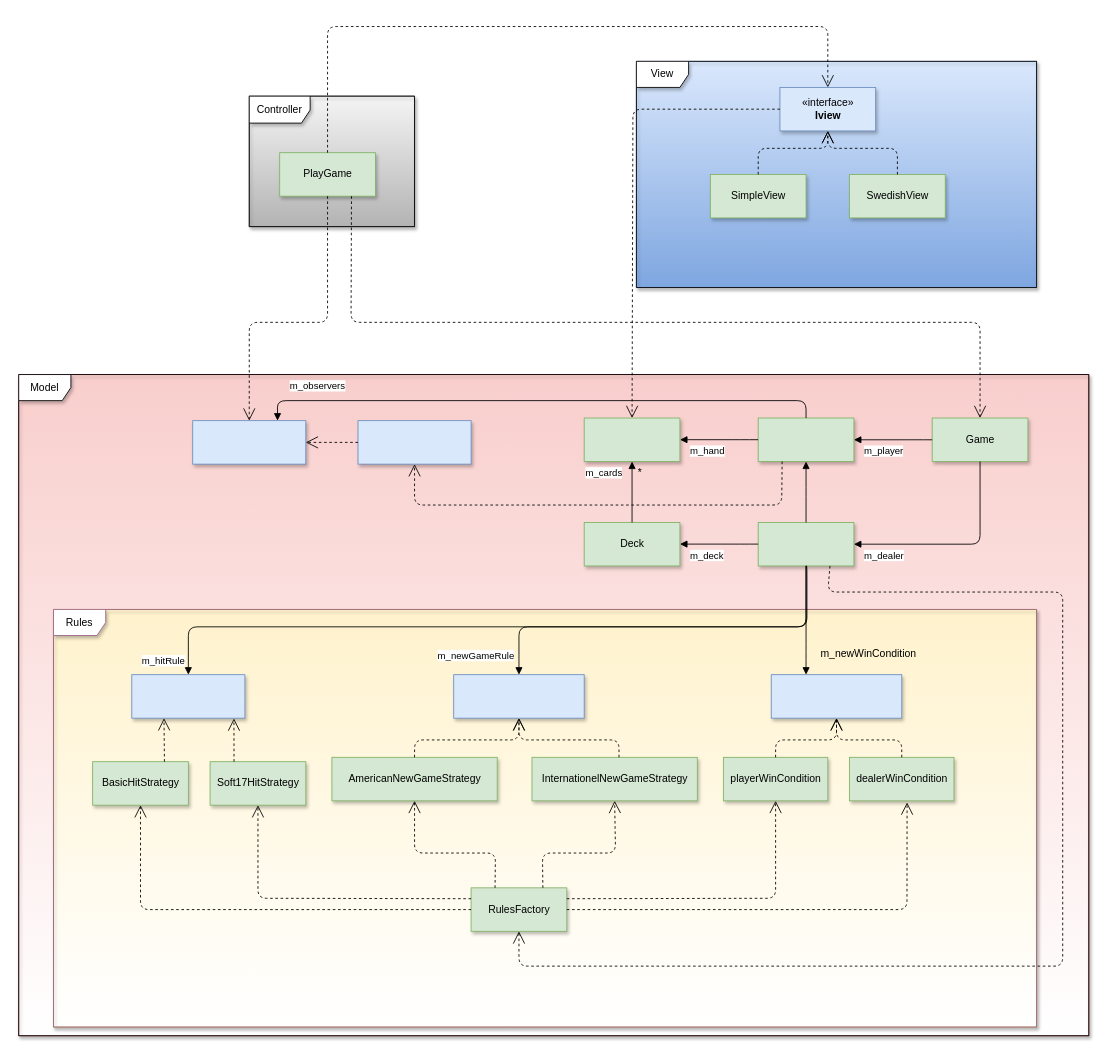
Image size: 1109x1057. Some labels were removed from this diagram. The shapes that lost their labels are listed below. From the top down, each one's centre as x and y in pixels, then its label:
pixel 249 443: «interface» Observer
pixel 415 443: «interface» ObserverMangager
pixel 632 441: Card
pixel 806 441: Player
pixel 806 545: Dealer
pixel 188 697: «interface» IHitStrategy
pixel 519 697: «interface» INewGameStrategy
pixel 837 697: «interface» IWindCondition
